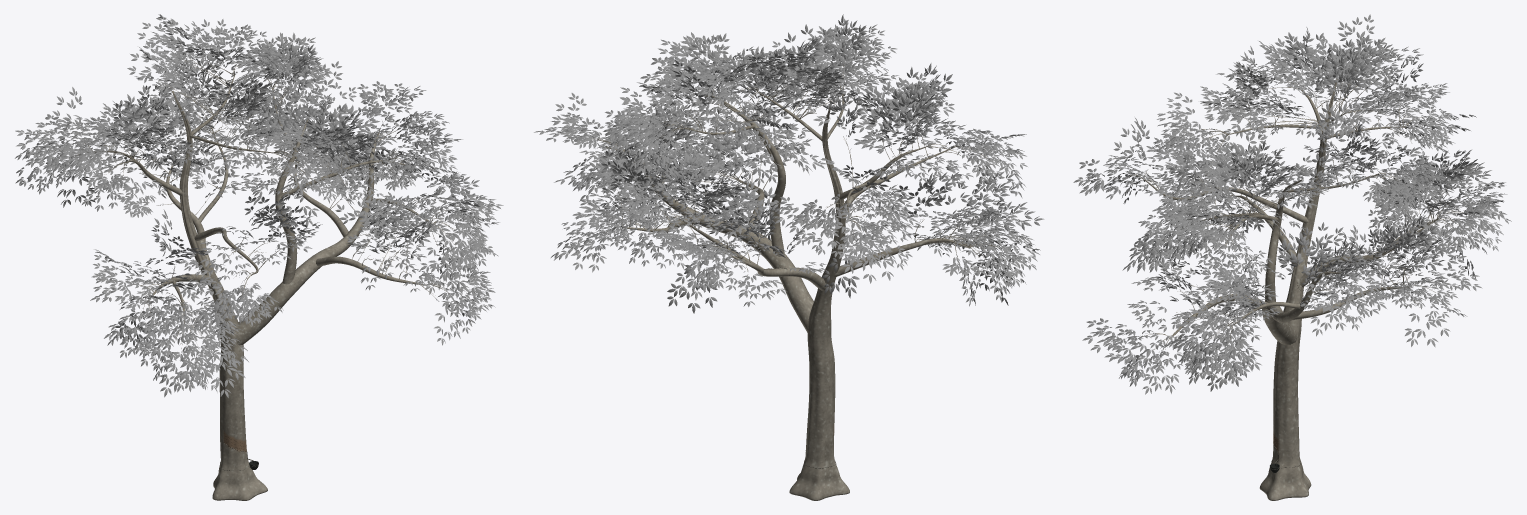
File: RT_Mature_B_LOD0.glb
The picture shows the model from 3 angles, left to right: view 1: azimuth 30°, elevation 25°; view 2: azimuth 150°, elevation 25°; view 3: azimuth 270°, elevation 25°; orthographic projection. The views are drawn at different scales.
Visible parts, largest first — view 1: RT_Mature_B_LOD0_Foliage, RT_Mature_B_LOD0_Body; view 2: RT_Mature_B_LOD0_Foliage, RT_Mature_B_LOD0_Body; view 3: RT_Mature_B_LOD0_Foliage, RT_Mature_B_LOD0_Body.
Part boxes in pixels (x1=…): RT_Mature_B_LOD0_Foliage: x1=15, y1=14, x2=503, y2=397; RT_Mature_B_LOD0_Body: x1=54, y1=57, x2=454, y2=500; RT_Mature_B_LOD0_Foliage: x1=534, y1=14, x2=1044, y2=313; RT_Mature_B_LOD0_Body: x1=592, y1=61, x2=998, y2=500; RT_Mature_B_LOD0_Foliage: x1=1073, y1=14, x2=1511, y2=394; RT_Mature_B_LOD0_Body: x1=1122, y1=67, x2=1467, y2=500.
Bounding box in the file's own units: 12.73 × 13.64 × 11.9.
Materials: 2 (1 with a texture image).
